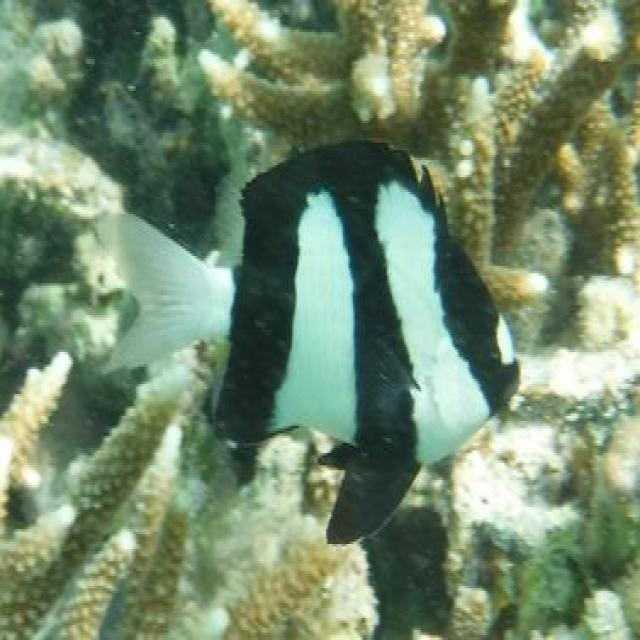Three_striped DasmselFish: (104, 137, 526, 549)
